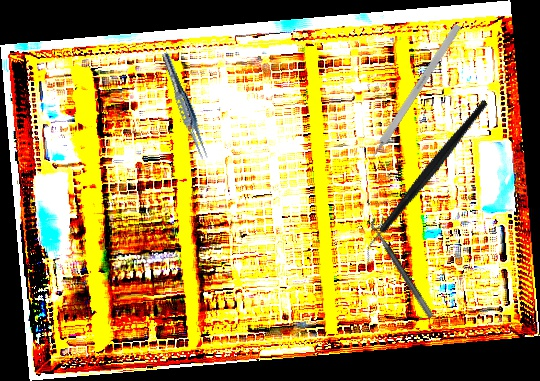Chopper: (324, 99, 528, 266)
Fixation Ring: (367, 212, 442, 320)
Hook Surgical: (362, 23, 462, 171)
Tissue Forceps: (156, 50, 214, 163)
